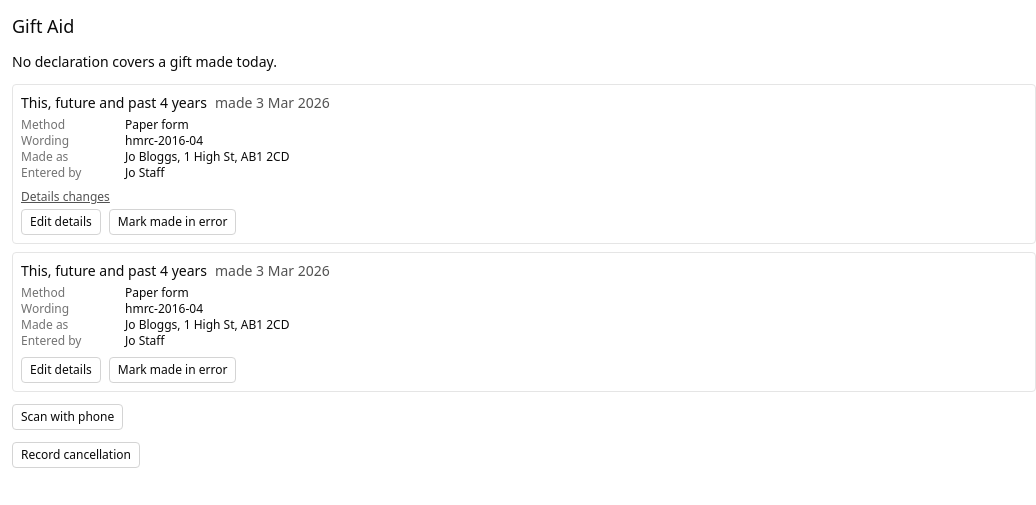
it: details changes: who, when, old → new, read only once opened
The width and height of the screenshot is (1036, 505).
Click the button "Details changes": click(65, 197) x1=21 y1=189 x2=110 y2=205
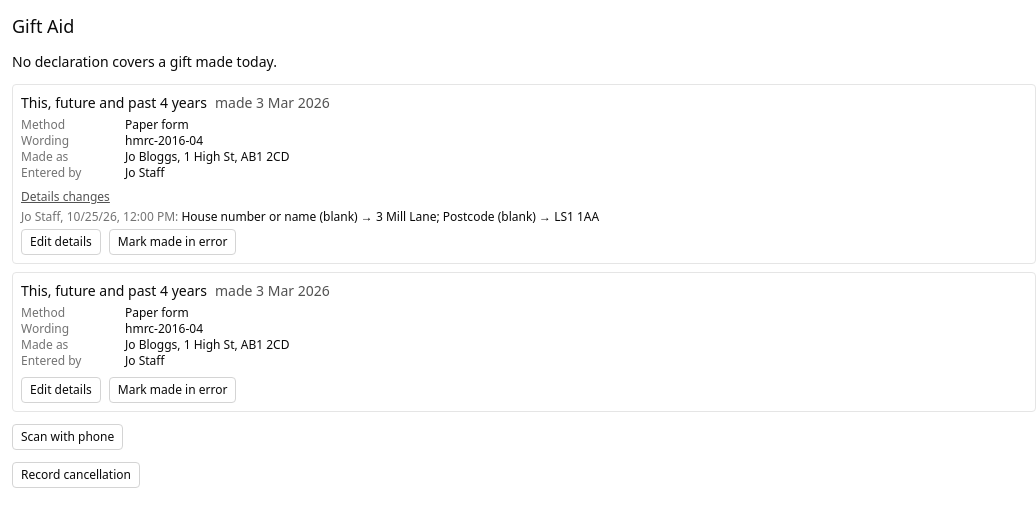
expect the list with test id "details-changes" shows "Jo Staff,": met, box x1=21 y1=208 x2=599 y2=225
expect the list with test id "details-changes" shows "House number or name (blank) → 3 Mill Lane; Postcode (blank) → LS1 1AA": met, box x1=181 y1=208 x2=599 y2=225
